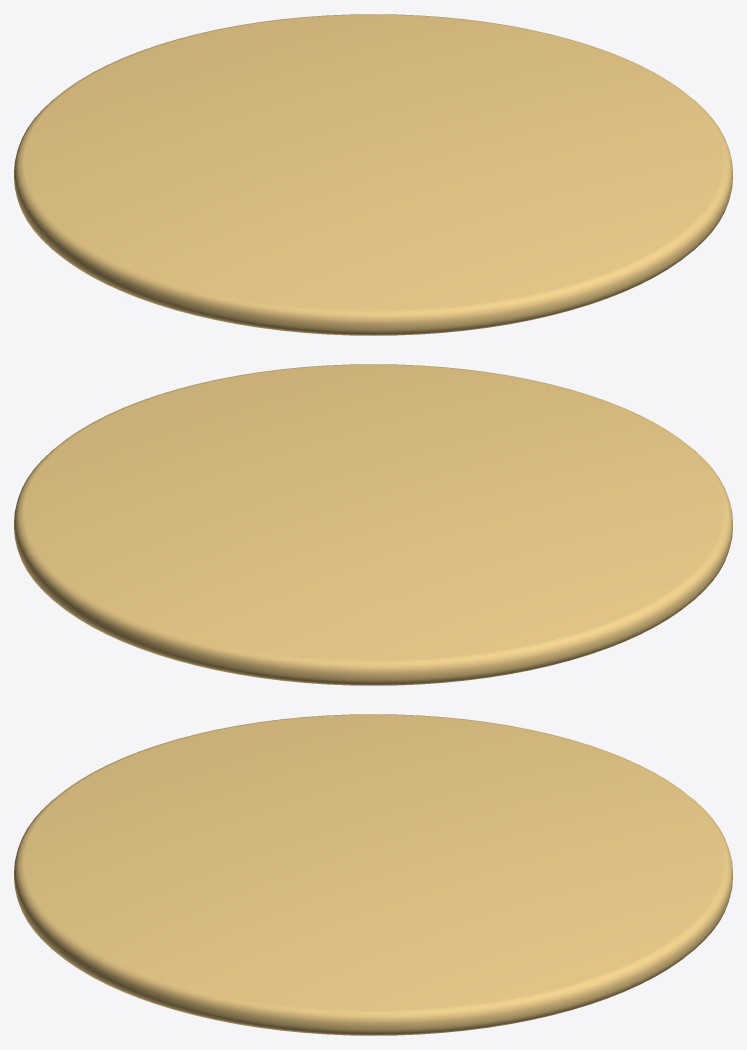
The model's file is Custard_Filling.fbx.
3 renders of one model, top to bottom at view 1: azimuth 30°, elevation 25°; view 2: azimuth 150°, elevation 25°; view 3: azimuth 270°, elevation 25°, orthographic.
Parts seen in each view (by area): view 1: Custard_Filling; view 2: Custard_Filling; view 3: Custard_Filling.
Part boxes in pixels (x1,y1,x2,y2): Custard_Filling: [14, 14, 732, 335]; Custard_Filling: [14, 364, 732, 685]; Custard_Filling: [14, 714, 732, 1035].
Size of the model in its own units: 0.212 by 0.008 by 0.212.
